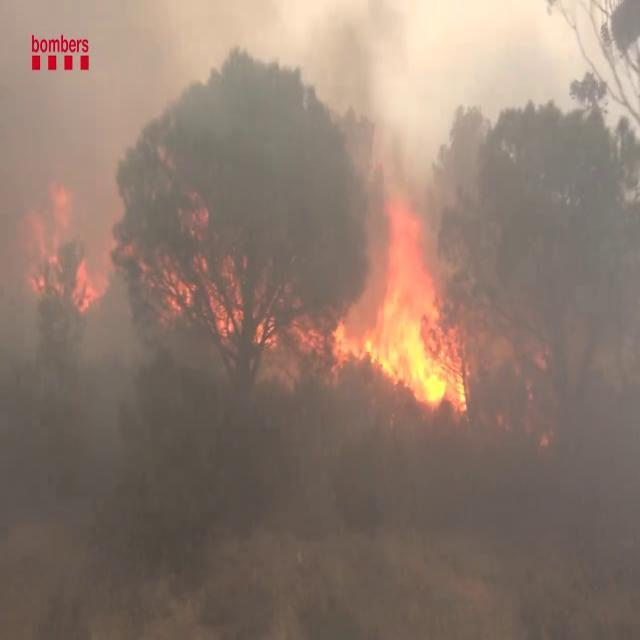Fire: (335, 194, 471, 412), (157, 207, 246, 339), (36, 228, 108, 316)
Smoke: (474, 1, 640, 598)
